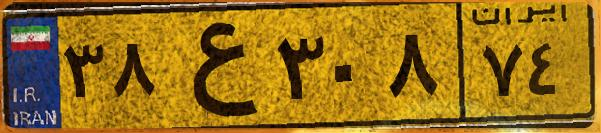0: (330, 28, 385, 110)
3: (270, 28, 330, 110), (57, 26, 110, 100)
4: (525, 38, 570, 115)
7: (475, 38, 525, 113)
8: (385, 28, 445, 110), (110, 28, 158, 98)
ع: (158, 12, 270, 120)
